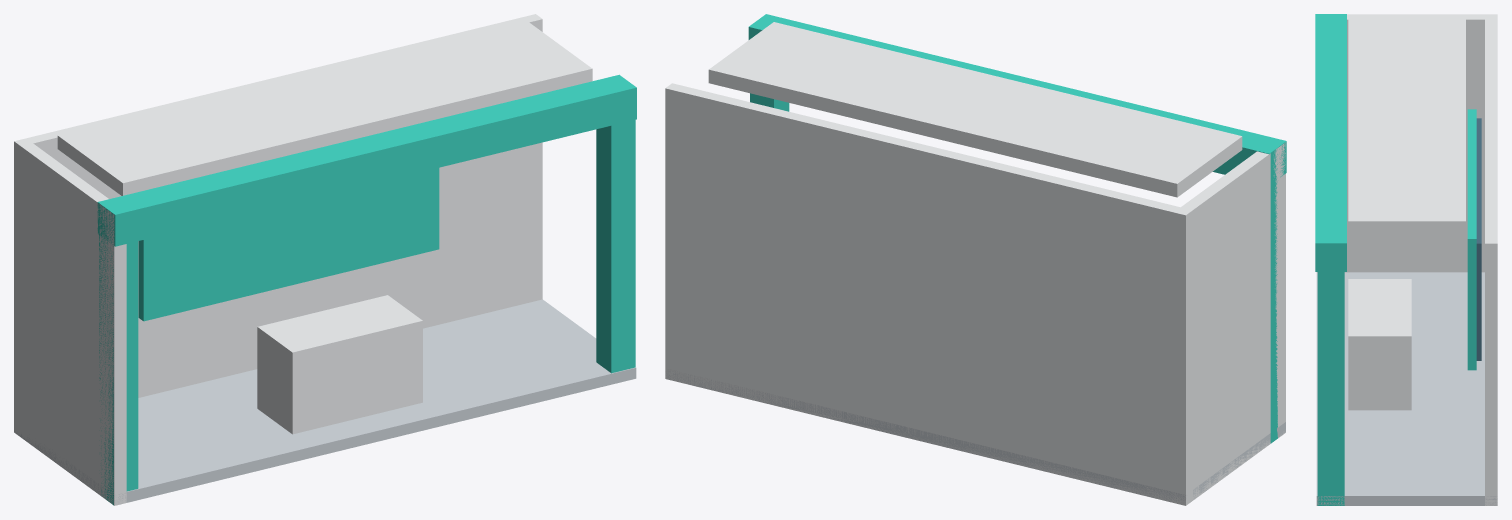
3 renders of one model, left to right at view 1: azimuth 30°, elevation 25°; view 2: azimuth 150°, elevation 25°; view 3: azimuth 270°, elevation 25°, orthographic. The views are drawn at different scales.
Parts seen in each view (by area): view 1: Exhibition Booth Concept; view 2: Exhibition Booth Concept; view 3: Exhibition Booth Concept.
Boxes of the visible parts, x1,y1,x2,y2 form: Exhibition Booth Concept: (14, 14, 636, 505); Exhibition Booth Concept: (665, 14, 1286, 505); Exhibition Booth Concept: (1315, 14, 1497, 505).
Size of the model in its own units: 6 by 3.34 by 2.01.
